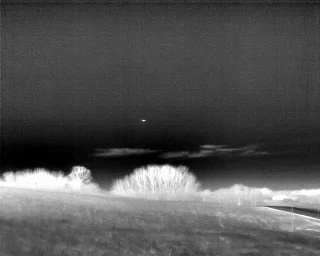AIRPLANE: (140, 117, 147, 123)
